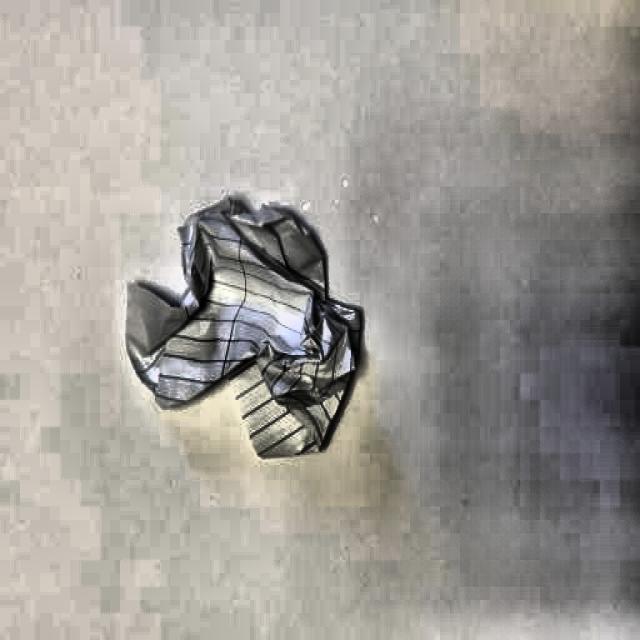paper: (119, 199, 365, 459)
